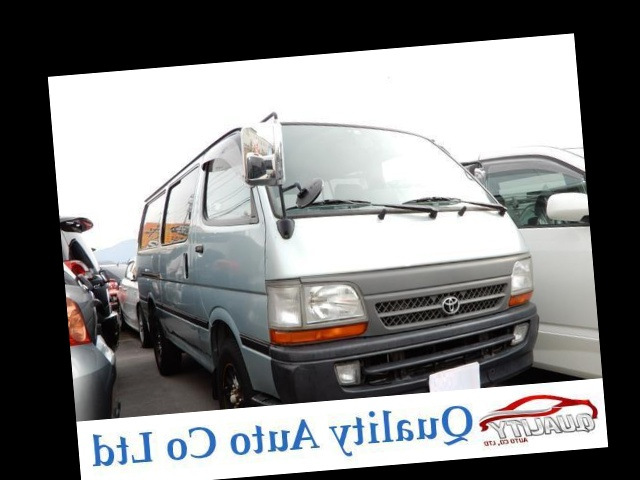van: (117, 97, 539, 423)
